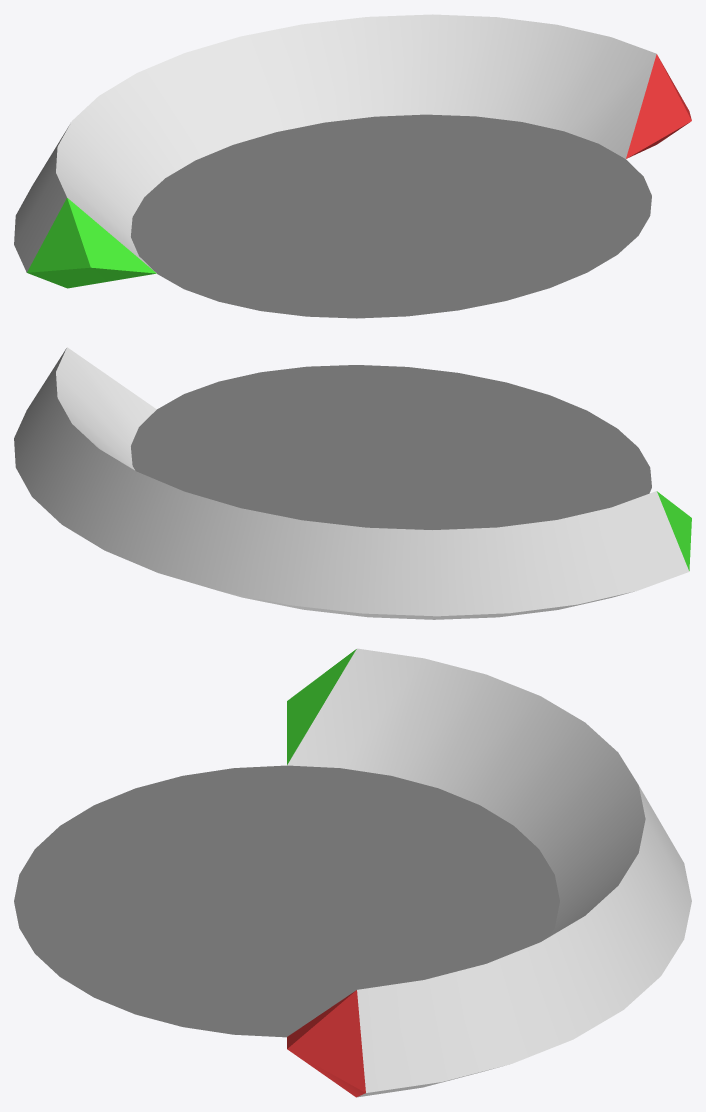
Rendered from palmmenu.fbx.
3 views of the same model, one above another, from view 1: azimuth 30°, elevation 25°; view 2: azimuth 150°, elevation 25°; view 3: azimuth 270°, elevation 25° (orthographic). The views are drawn at different scales.
Parts seen in each view (by area): view 1: Torus; view 2: Torus; view 3: Torus.
Boxes of the visible parts, x1,y1,x2,y2 form: Torus: (14, 14, 691, 318); Torus: (14, 347, 691, 619); Torus: (14, 648, 691, 1097).
Bounding box in the file's own units: 165 × 220 × 28.85.
